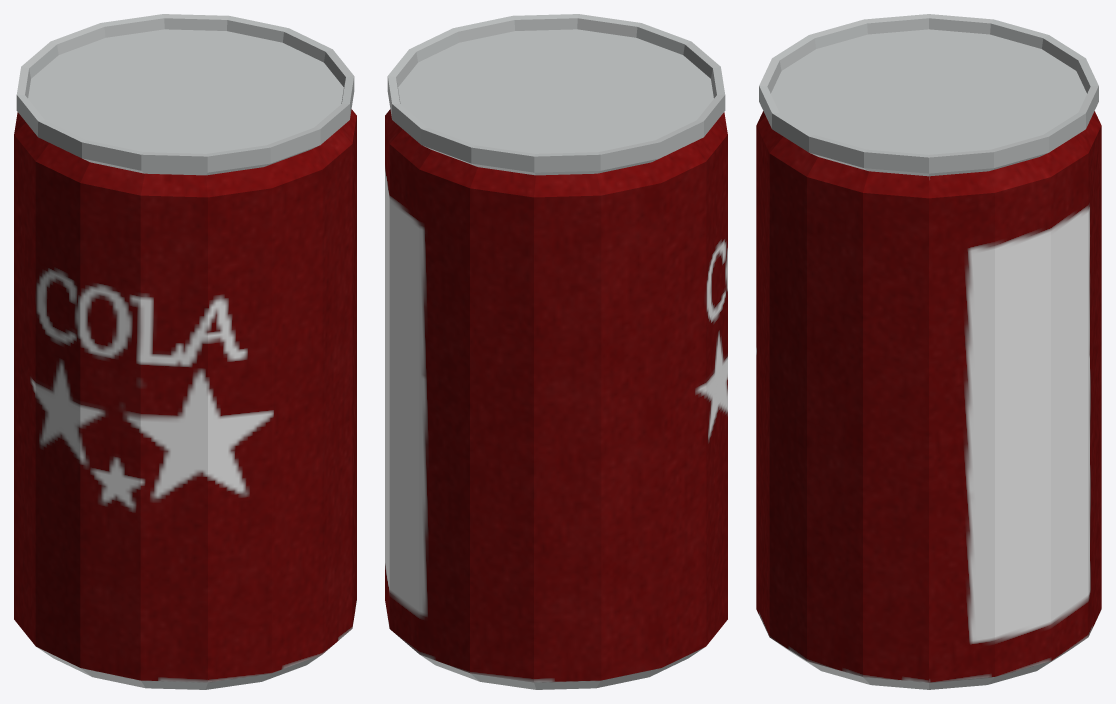
Rendered from MKU_drink_can_fin.fbx.
The picture shows the model from 3 angles, left to right: view 1: azimuth 30°, elevation 25°; view 2: azimuth 150°, elevation 25°; view 3: azimuth 270°, elevation 25°; orthographic projection.
Parts seen in each view (by area): view 1: Cylinder; view 2: Cylinder; view 3: Cylinder.
Part boxes in pixels (x1,y1,x2,y2): Cylinder: [14, 14, 356, 689]; Cylinder: [385, 14, 727, 689]; Cylinder: [756, 14, 1101, 689].
Bounding box in the file's own units: 77.3 × 133 × 77.3.
